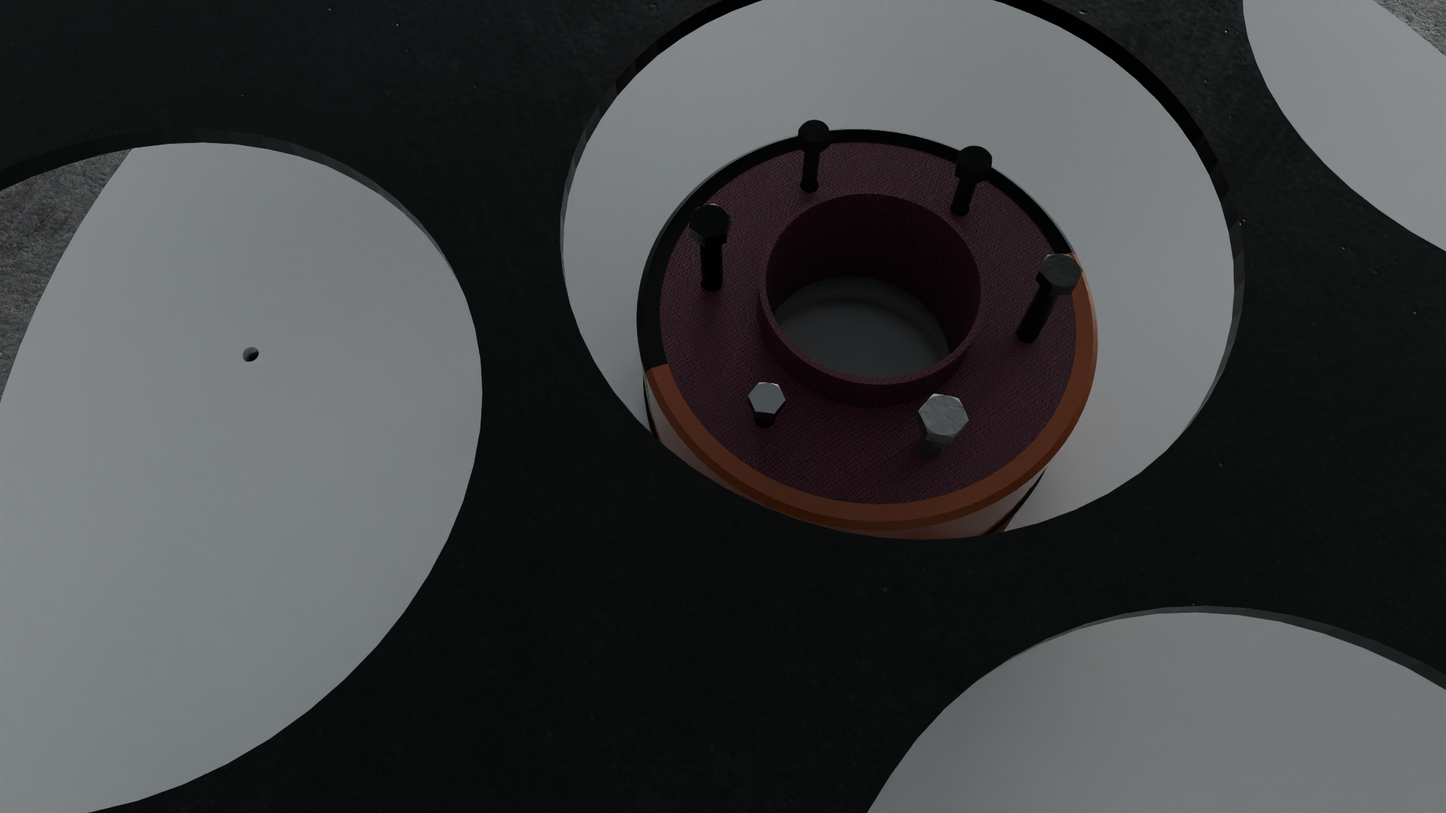bolt: (918, 394, 969, 437), (689, 203, 731, 240), (1039, 254, 1083, 287), (748, 382, 786, 414), (957, 145, 992, 176), (798, 120, 831, 146)
